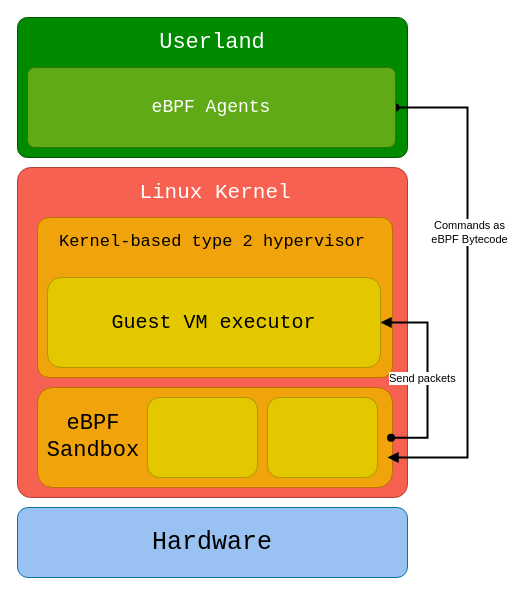
This 524x595 diagram has some shape labels left out. Each missing label, with the centre of its shape:
"TC" belongs at (x=322, y=437).
"XDP" belongs at (x=202, y=437).
